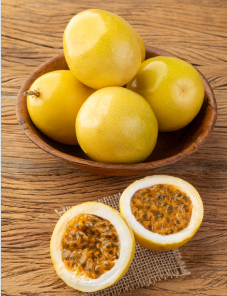maracuya: (70, 84, 165, 172), (59, 5, 148, 93)
